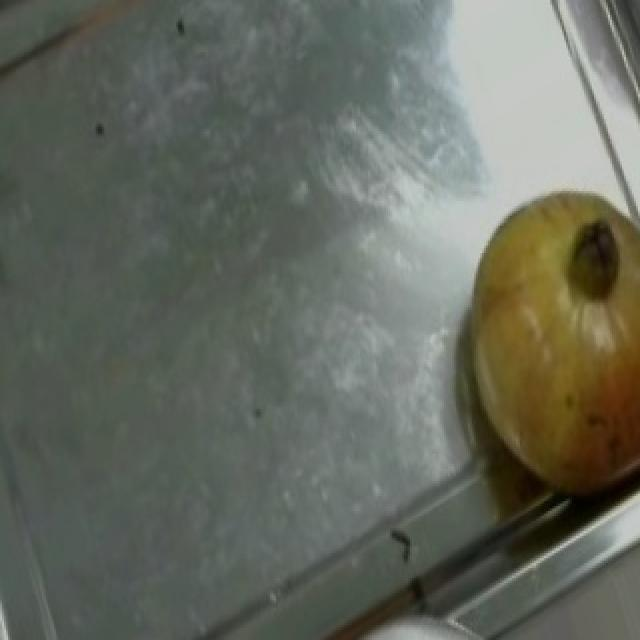fruit: (446, 280, 640, 536)
